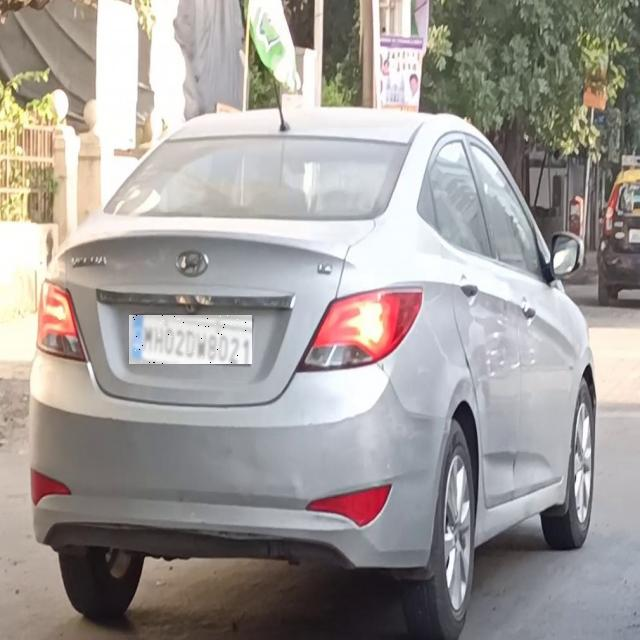Plate: (130, 316, 253, 365)
